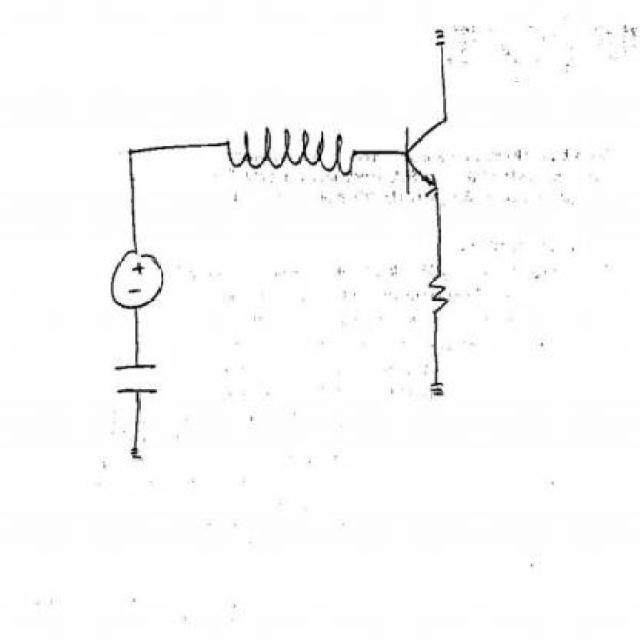capacitor: (106, 348, 178, 404)
ground: (407, 357, 469, 408), (418, 3, 468, 62), (126, 427, 154, 472)
inductor: (222, 110, 364, 192)
resistor: (418, 260, 453, 318)
transistor: (392, 102, 465, 203)
voltage_source: (104, 236, 169, 319)
